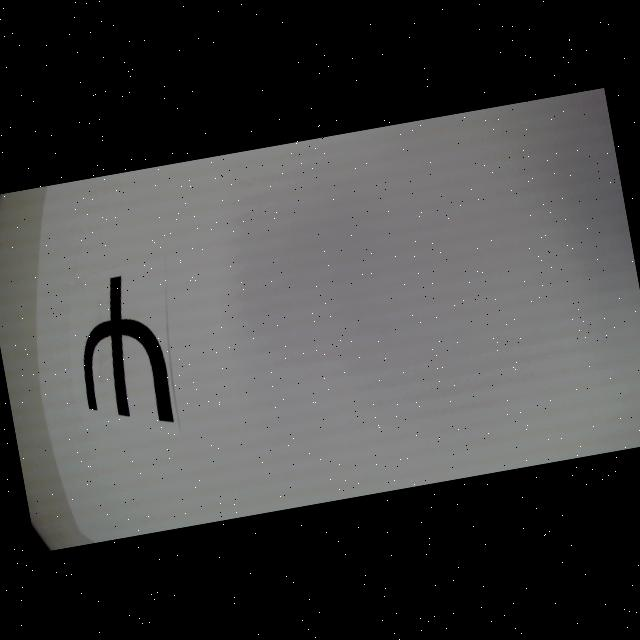PSI: (66, 270, 175, 436)
